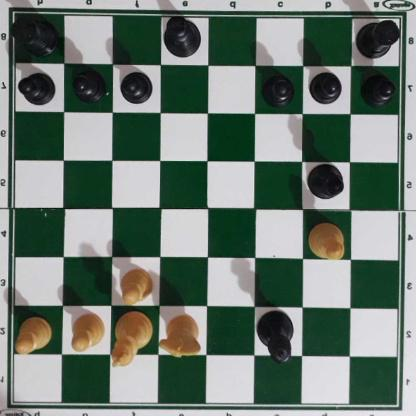black-bishop: (305, 163, 346, 200)
black-king: (162, 15, 203, 58)
black-pawn: (20, 69, 56, 105), (121, 68, 154, 103), (362, 71, 396, 104), (311, 70, 343, 104), (73, 67, 105, 101), (263, 71, 295, 105)
black-queen: (256, 309, 296, 364)
black-rook: (355, 15, 403, 58), (11, 14, 58, 55)
white-bishop: (309, 221, 346, 261)
white-king: (113, 311, 153, 367)
white-knight: (159, 313, 203, 357)
white-pawn: (70, 312, 106, 352), (16, 315, 53, 353), (120, 266, 155, 303)
